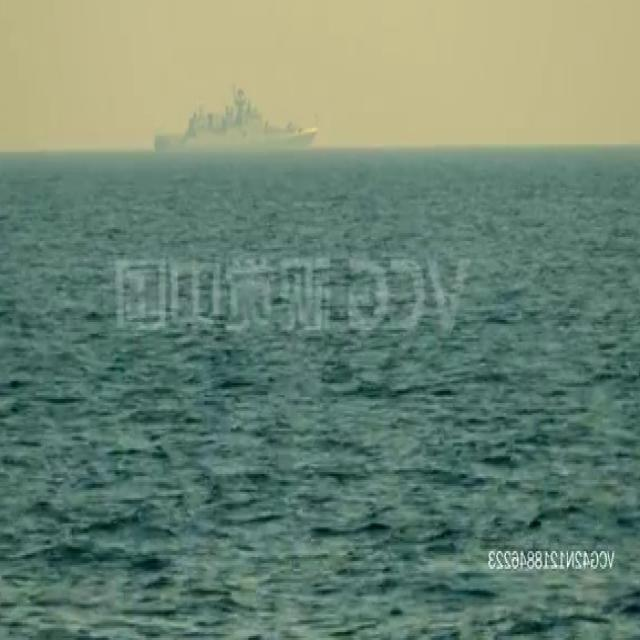navalvessels: (152, 80, 320, 158)
